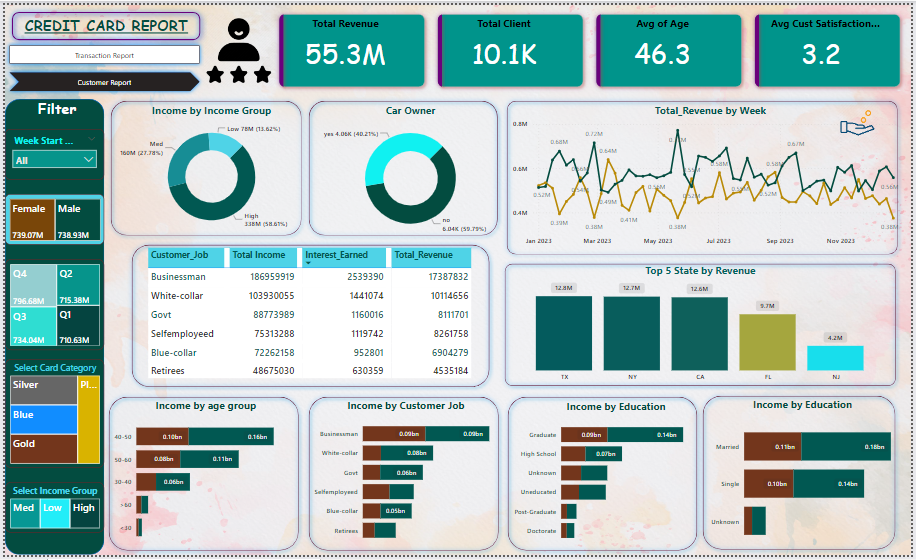

What the dashboard file says about the page in this screenshot:
{"tool":"powerbi","page":{"name":"Customer Report","canvas":[1680,1020],"ordinal":1},"visuals":[{"type":"shape","box":[0,175.4,184.1,845.3],"z":0,"group":"g1"},{"type":"shape","box":[225.9,436.7,681,281.1],"z":0},{"type":"shape","box":[0,0,375,78],"z":1000},{"type":"textbox","box":[23.4,169,145.6,59.6],"z":1000,"group":"g1"},{"type":"group","id":"g1","title":"Group 4","box":[0,169,184.1,851.7],"z":2000},{"type":"cardVisual","fields":{"Data":["Sum(credit_card.Total_Revenue)","CountNonNull(customer.Client_Num)","Avg(customer.Customer_Age)","Avg(customer.Cust_Satisfaction_Score)"]},"box":[492.1,0,1187.5,169],"z":3000},{"type":"shape","box":[922,169,742.9,302.9],"z":4000},{"type":"shape","box":[553.9,169,368.1,267.7],"z":5000},{"type":"slicer","fields":{"Values":["credit_card.Week_Start_Date"]},"box":[0,229.2,184.1,93.7],"z":6000},{"type":"shape","box":[1284.9,716.5,374.8,302.9],"z":6000,"group":"g5"},{"type":"shape","box":[184.1,717.8,369.8,302.9],"z":6000,"group":"g2"},{"type":"shape","box":[553.9,717.8,369.8,302.9],"z":6000,"group":"g3"},{"type":"shape","box":[923.7,717.8,369,302.9],"z":6000,"group":"g4"},{"type":"shape","box":[187.4,169,371.5,267.7],"z":7000},{"type":"treemap","fields":{"Group":["credit_card.Qtr"],"Values":["Avg(credit_card.Client_Num)"]},"box":[0,471.3,184,169.5],"z":8000},{"type":"treemap","fields":{"Values":["Avg(credit_card.Client_Num)"],"Group":["customer.Gender"]},"box":[0,351.4,184.1,93.7],"z":9000},{"type":"treemap","title":"Select Card Category","fields":{"Values":["Avg(credit_card.Client_Num)"],"Group":["credit_card.Card_Category"]},"box":[0,656.9,184,201.7],"z":10000},{"type":"treemap","title":"Select Income Group","fields":{"Values":["Avg(credit_card.Client_Num)"],"Group":["customer.Income_group1"]},"box":[0,884.4,184,93.6],"z":11000},{"type":"textbox","box":[23.4,15.1,328,51.9],"z":12000},{"type":"lineChart","title":"Total_Revenue by Week","fields":{"Y":["Sum(credit_card.Total_Revenue)"],"Category":["credit_card.Week_Start_Date.Variation.Date Hierarchy.Year","credit_card.Week_Start_Date.Variation.Date Hierarchy.Quarter","credit_card.Week_Start_Date.Variation.Date Hierarchy.Month","credit_card.Week_Start_Date.Variation.Date Hierarchy.Day"],"Series":["customer.Gender"]},"box":[937.1,182.4,742.9,274.4],"z":13000},{"type":"donutChart","title":"Income by Income Group","fields":{"Y":["Sum(customer.Income)"],"Category":["customer.Income_group1"]},"box":[187.4,182.4,391.6,247.6],"z":14000},{"type":"group","id":"g2","title":"Group 1","box":[184.1,717.8,369.8,302.9],"z":15000},{"type":"barChart","title":"Income by age group","fields":{"Category":["customer.age_group_1"],"Y":["Sum(customer.Income)"],"Series":["customer.Gender"]},"box":[197,729.6,352,279.3],"z":15000,"group":"g2"},{"type":"barChart","title":"Income by Customer Job","fields":{"Y":["Sum(customer.Income)"],"Category":["customer.Customer_Job"],"Series":["customer.Gender"]},"box":[566.8,729.6,352,279.3],"z":15000,"group":"g3"},{"type":"barChart","title":"Income by Education","fields":{"Category":["customer.Education_Level"],"Y":["Sum(customer.Income)"],"Series":["customer.Gender"]},"box":[937.6,731.4,389.9,277.8],"z":15000,"group":"g4"},{"type":"barChart","title":"Income by Education","fields":{"Category":["customer.Marital_Status"],"Y":["Sum(customer.Income)"],"Series":["customer.Gender"]},"box":[1303.3,736.6,351.4,282.8],"z":15000,"group":"g5"},{"type":"donutChart","title":"Car Owner","fields":{"Category":["customer.Car_Owner"],"Y":["CountNonNull(customer.Client_Num)"]},"box":[537.1,182.4,428.4,254.3],"z":16000},{"type":"group","id":"g3","title":"Group 1","box":[553.9,717.8,369.8,302.9],"z":17000},{"type":"group","id":"g4","title":"Group 1","box":[923.7,717.8,403.8,302.9],"z":18000},{"type":"tableEx","fields":{"Values":["customer.Customer_Job","Sum(customer.Income)","Sum(credit_card.Interest_Earned)","Sum(credit_card.Total_Revenue)"]},"box":[259.4,445.1,614.1,262.7],"z":19000},{"type":"pageNavigator","box":[0,117.1,369.8,51.9],"z":20000},{"type":"pageNavigator","box":[0,66.9,369.8,50.2],"z":21000},{"type":"group","id":"g5","title":"Group 1","box":[1284.9,716.5,374.8,302.9],"z":22000},{"type":"image","box":[258.7,19.4,351.5,128.6],"z":23000},{"type":"image","box":[1428.3,172,225.8,115.2],"z":24000},{"type":"shape","box":[918.6,471.9,742.9,244.3],"z":24001},{"type":"clusteredColumnChart","title":"Top 5 State by Revenue","fields":{"Category":["customer.state_cd"],"Y":["Sum(credit_card.Total_Revenue)"]},"box":[930,478.6,721.2,229.2],"z":24002}]}

Visuals, with their boxes in screenshot pixels (x1, y1, x2, y2), scaled from the page's 1680x1020 canvas onto the 916x560 screenshot:
shape: rect(0, 96, 100, 559)
shape: rect(123, 240, 494, 394)
shape: rect(0, 0, 204, 43)
textbox: rect(13, 93, 92, 126)
"Group 4" group: rect(0, 93, 100, 559)
cardVisual - Sum(credit_card.Total_Revenue) x CountNonNull(customer.Client_Num): rect(268, 0, 915, 93)
shape: rect(503, 93, 908, 259)
shape: rect(302, 93, 503, 240)
slicer - credit_card.Week_Start_Date: rect(0, 126, 100, 177)
shape: rect(701, 393, 905, 559)
shape: rect(100, 394, 302, 559)
shape: rect(302, 394, 504, 559)
shape: rect(504, 394, 705, 559)
shape: rect(102, 93, 305, 240)
treemap - credit_card.Qtr x Avg(credit_card.Client_Num): rect(0, 259, 100, 352)
treemap - Avg(credit_card.Client_Num) x customer.Gender: rect(0, 193, 100, 244)
"Select Card Category" treemap: rect(0, 361, 100, 471)
"Select Income Group" treemap: rect(0, 486, 100, 537)
textbox: rect(13, 8, 192, 37)
"Total_Revenue by Week" lineChart: rect(511, 100, 915, 251)
"Income by Income Group" donutChart: rect(102, 100, 316, 236)
"Group 1" group: rect(100, 394, 302, 559)
"Income by age group" barChart: rect(107, 401, 299, 554)
"Income by Customer Job" barChart: rect(309, 401, 501, 554)
"Income by Education" barChart: rect(511, 402, 724, 554)
"Income by Education" barChart: rect(711, 404, 902, 559)
"Car Owner" donutChart: rect(293, 100, 526, 240)
"Group 1" group: rect(302, 394, 504, 559)
"Group 1" group: rect(504, 394, 724, 559)
tableEx - customer.Customer_Job x Sum(customer.Income): rect(141, 244, 476, 389)
pageNavigator: rect(0, 64, 202, 93)
pageNavigator: rect(0, 37, 202, 64)
"Group 1" group: rect(701, 393, 905, 559)
image: rect(141, 11, 333, 81)
image: rect(779, 94, 902, 158)
shape: rect(501, 259, 906, 393)
"Top 5 State by Revenue" clusteredColumnChart: rect(507, 263, 900, 389)
